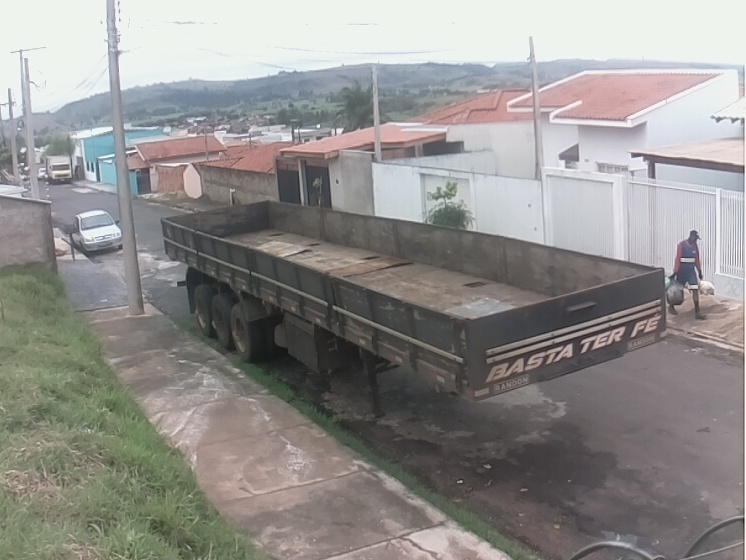person: (665, 227, 710, 324)
